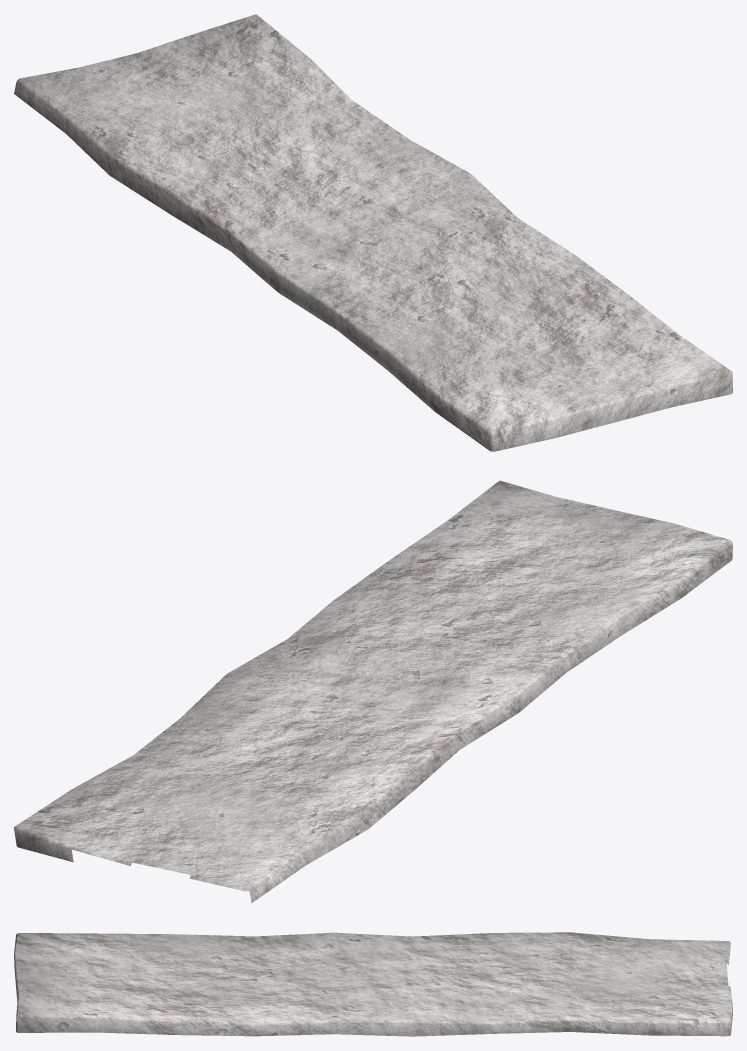
The model's file is tile3_LOD0.FBX.
3 views of the same model, one above another, from view 1: azimuth 30°, elevation 25°; view 2: azimuth 150°, elevation 25°; view 3: azimuth 270°, elevation 25° (orthographic). The views are drawn at different scales.
Visible parts, largest first — view 1: tile3_LOD0; view 2: tile3_LOD0; view 3: tile3_LOD0.
Boxes of the visible parts, left/top/right/bottom form: tile3_LOD0: left=14, top=14, right=732, bottom=451; tile3_LOD0: left=14, top=480, right=732, bottom=903; tile3_LOD0: left=14, top=932, right=732, bottom=1036.
Size of the model in its own units: 52.17 by 4.52 by 173.
